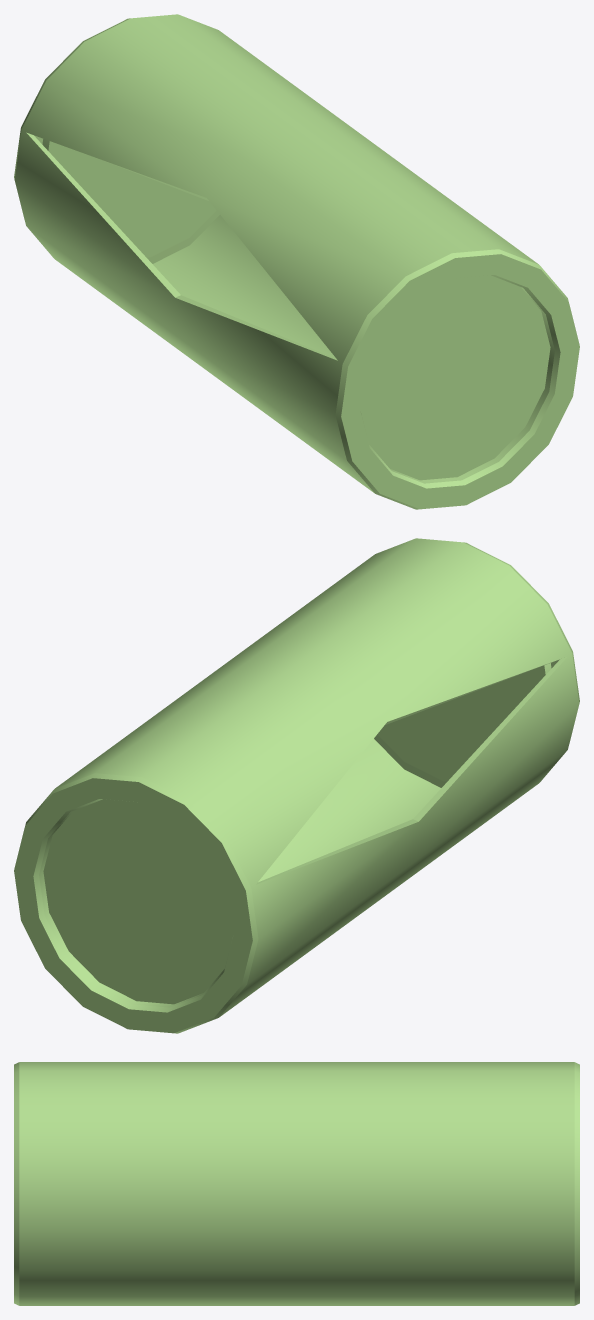
Rendered from estojo.fbx.
The picture shows the model from 3 angles, top to bottom: view 1: azimuth 30°, elevation 25°; view 2: azimuth 150°, elevation 25°; view 3: azimuth 270°, elevation 25°; orthographic projection. The views are drawn at different scales.
Visible parts, largest first — view 1: Cylinder.023; view 2: Cylinder.023; view 3: Cylinder.023.
Part boxes in pixels (x1,y1,x2,y2): Cylinder.023: (14, 14, 579, 509); Cylinder.023: (14, 538, 579, 1033); Cylinder.023: (14, 1062, 579, 1305).
Bounding box in the file's own units: 7.25 × 7.25 × 16.86.
